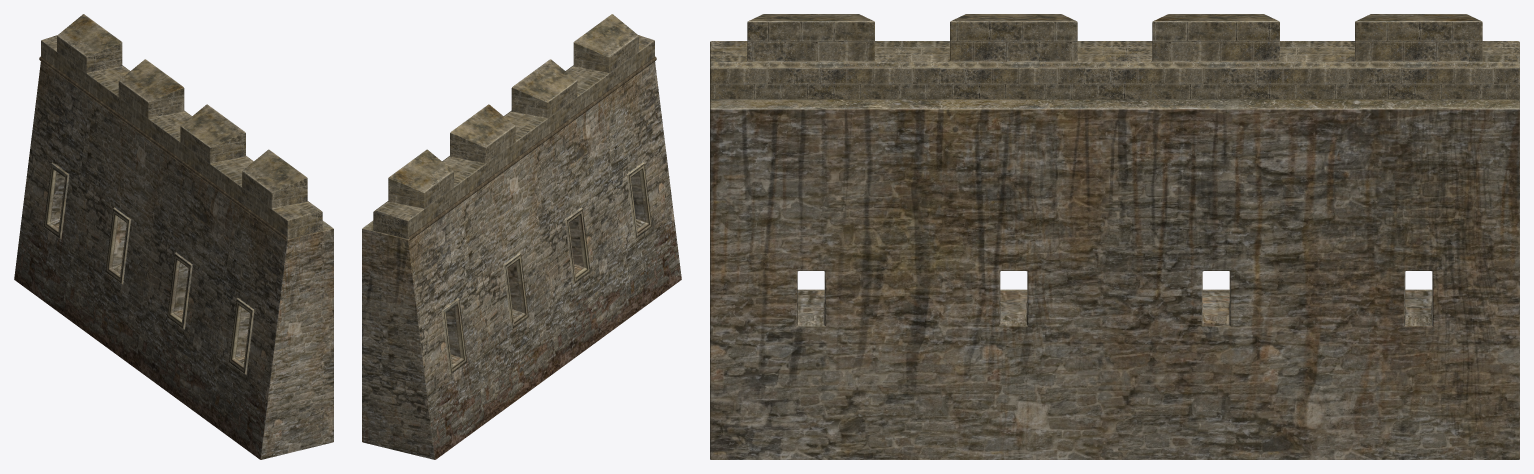
Rendered from parapet.gltf.
The picture shows the model from 3 angles, left to right: view 1: azimuth 30°, elevation 25°; view 2: azimuth 150°, elevation 25°; view 3: azimuth 270°, elevation 25°; orthographic projection. The views are drawn at different scales.
Visible parts, largest first — view 1: modular_fort_01_wall_thin_straight_02; view 2: modular_fort_01_wall_thin_straight_02; view 3: modular_fort_01_wall_thin_straight_02.
Boxes of the visible parts, x1,y1,x2,y2 form: modular_fort_01_wall_thin_straight_02: [14, 14, 333, 459]; modular_fort_01_wall_thin_straight_02: [362, 14, 681, 459]; modular_fort_01_wall_thin_straight_02: [710, 14, 1519, 459].
Bounding box in the file's own units: 2.55 × 8.61 × 14.82.
Materials: 2 (2 with a texture image).
